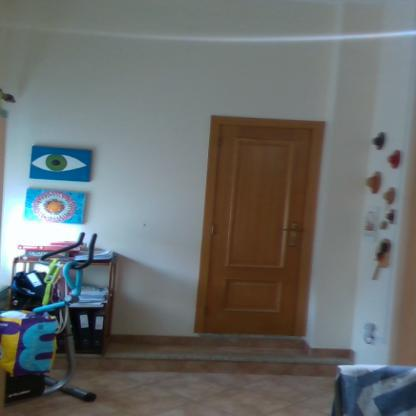door: (217, 124, 307, 336)
hinged: (203, 304, 210, 318), (217, 134, 223, 150), (210, 224, 216, 236)
lever: (281, 226, 299, 234)
